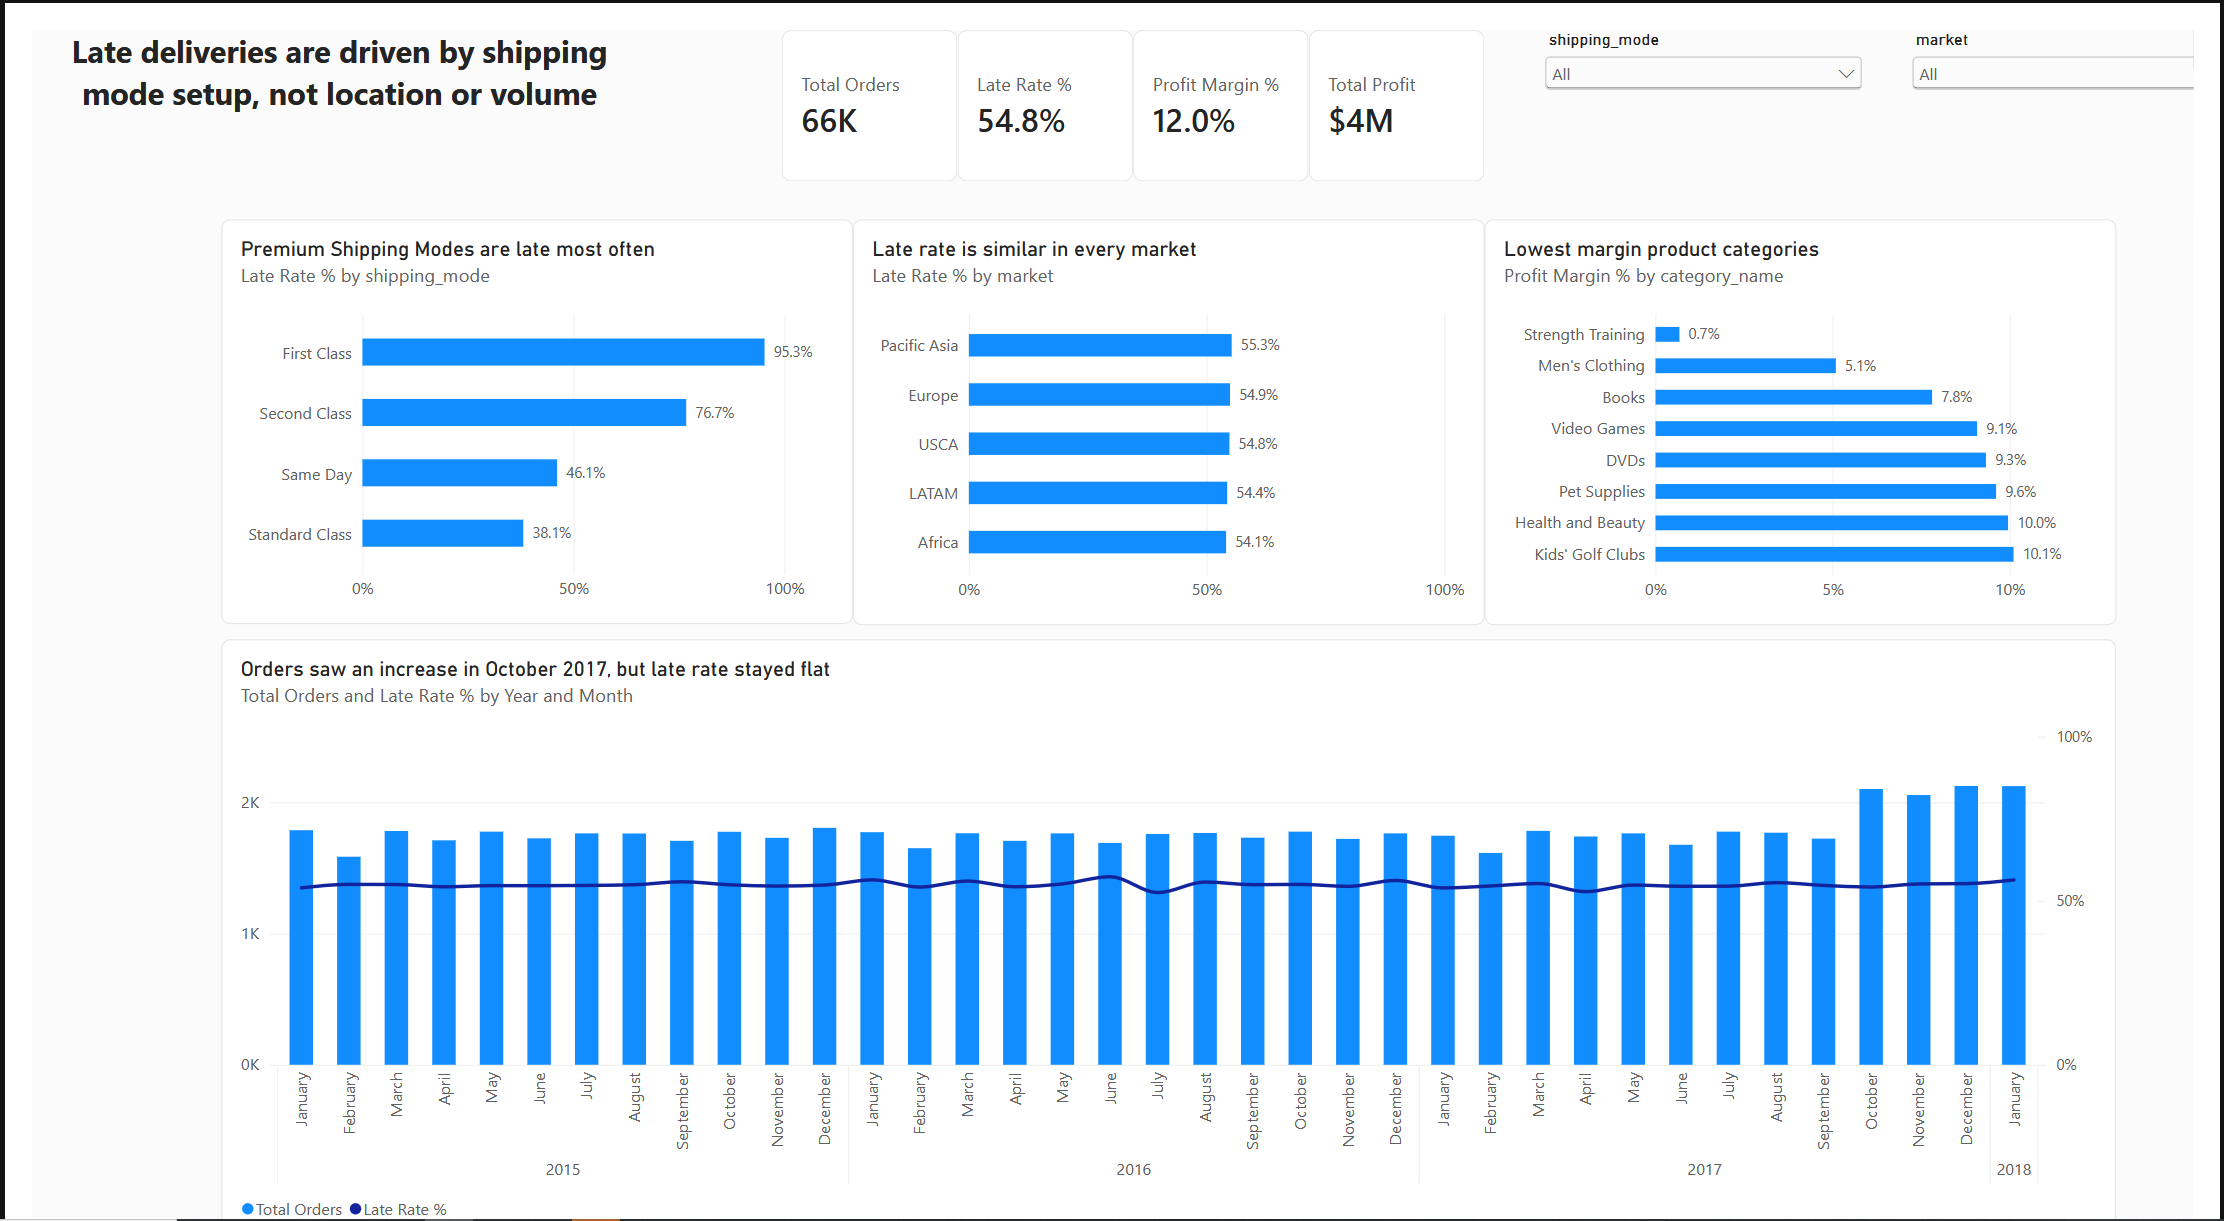

What the dashboard file says about the page in this screenshot:
{"tool":"powerbi","page":{"name":"Page 1","canvas":[1920,1080],"ordinal":0},"visuals":[{"type":"cardVisual","fields":{"Data":["orders.Total Orders"]},"box":[653.7,0,153.1,132.5],"z":0},{"type":"cardVisual","fields":{"Data":["orders.Late Rate %"]},"box":[806.9,0,153.1,132.5],"z":1},{"type":"cardVisual","fields":{"Data":["order_items.Profit Margin %"]},"box":[960,0,153.1,132.5],"z":2},{"type":"cardVisual","fields":{"Data":["order_items.Total Profit"]},"box":[1113.1,0,153.1,132.5],"z":3},{"type":"clusteredBarChart","title":"Premium Shipping Modes are late most often","fields":{"Category":["orders.shipping_mode"],"Y":["orders.Late Rate %"]},"box":[164.9,164.9,550.7,353.4],"z":4},{"type":"clusteredBarChart","title":"Late rate is similar in every market","fields":{"Category":["orders.market"],"Y":["orders.Late Rate %"]},"box":[715.6,164.9,550.7,354.4],"z":5},{"type":"lineClusteredColumnComboChart","title":"Orders saw an increase in October 2017, but late rate stayed flat","fields":{"Category":["orders.order_date.Variation.Date Hierarchy.Year","orders.order_date.Variation.Date Hierarchy.Month"],"Y":["orders.Total Orders"],"Y2":["orders.Late Rate %"]},"box":[164.9,531,1652,528.1],"z":6},{"type":"clusteredBarChart","title":"Lowest margin product categories","fields":{"Category":["products.category_name"],"Y":["order_items.Profit Margin %"]},"box":[1266.3,164.9,550.7,354.4],"z":7},{"type":"textbox","box":[0,0,536,130.6],"z":8},{"type":"slicer","fields":{"Values":["orders.market"]},"box":[1634.4,0,285.6,53],"z":9},{"type":"slicer","fields":{"Values":["orders.shipping_mode"]},"box":[1314.4,0,285.6,54],"z":10}]}

Visuals, with their boxes in screenshot pixels (x1, y1, x2, y2), scaled from the page's 1920x1080 canvas onto the 2224x1221 screenshot:
cardVisual - orders.Total Orders: <box>757,0,935,150</box>
cardVisual - orders.Late Rate %: <box>935,0,1112,150</box>
cardVisual - order_items.Profit Margin %: <box>1112,0,1289,150</box>
cardVisual - order_items.Total Profit: <box>1289,0,1467,150</box>
"Premium Shipping Modes are late most often" clusteredBarChart: <box>191,186,829,586</box>
"Late rate is similar in every market" clusteredBarChart: <box>829,186,1467,587</box>
"Orders saw an increase in October 2017, but late rate stayed flat" lineClusteredColumnComboChart: <box>191,600,2105,1197</box>
"Lowest margin product categories" clusteredBarChart: <box>1467,186,2105,587</box>
textbox: <box>0,0,621,148</box>
slicer - orders.market: <box>1893,0,2223,60</box>
slicer - orders.shipping_mode: <box>1523,0,1853,61</box>
